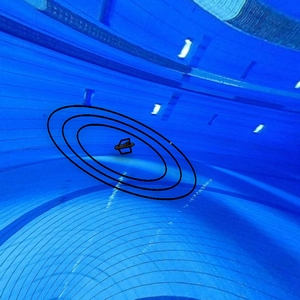circle: (42, 103, 205, 206)
submarine: (110, 137, 140, 158)
